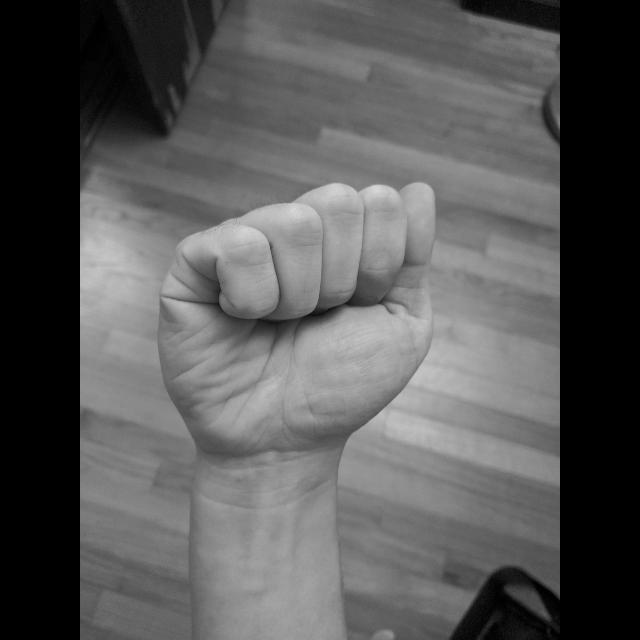A: (150, 174, 444, 463)
